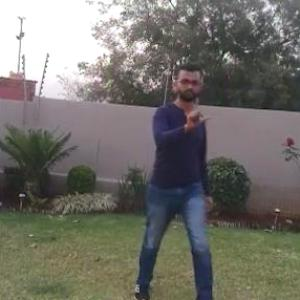land_hand: (183, 92, 212, 127)
